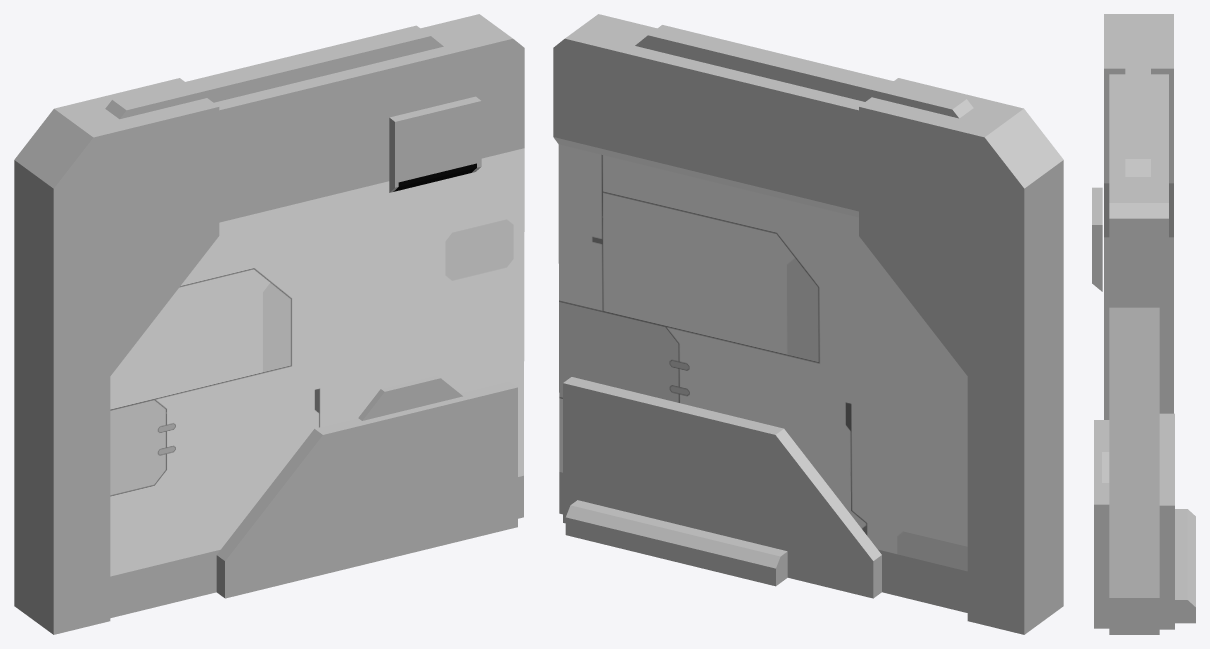
The model's file is SM_Divider_1.fbx.
The picture shows the model from 3 angles, left to right: view 1: azimuth 30°, elevation 25°; view 2: azimuth 150°, elevation 25°; view 3: azimuth 270°, elevation 25°; orthographic projection. The views are drawn at different scales.
Parts seen in each view (by area): view 1: SM_Divider_1; view 2: SM_Divider_1; view 3: SM_Divider_1.
Boxes of the visible parts, x1,y1,x2,y2 form: SM_Divider_1: (14,14,524,634); SM_Divider_1: (553,14,1063,634); SM_Divider_1: (1092,14,1195,634).
Size of the model in its own units: 155 by 154 by 33.07.
